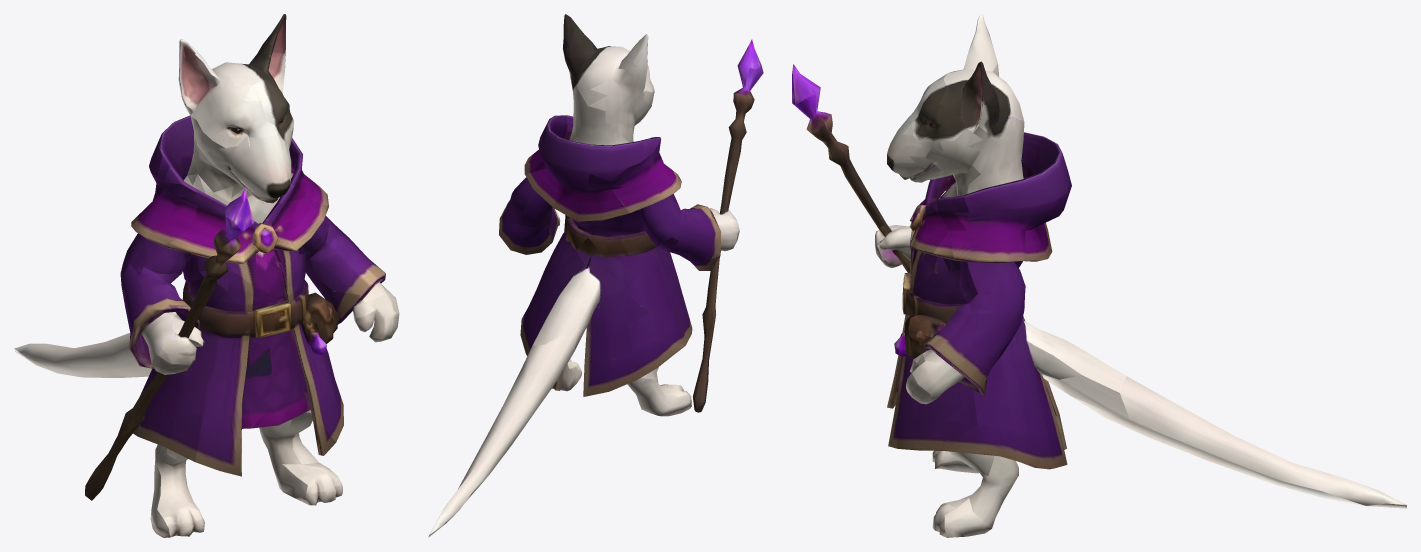
The model's file is analyze.glb.
3 views of the same model, side by side, from view 1: azimuth 30°, elevation 25°; view 2: azimuth 150°, elevation 25°; view 3: azimuth 270°, elevation 25° (orthographic). The views are drawn at different scales.
Visible parts, largest first — view 1: mesh_node; view 2: mesh_node; view 3: mesh_node.
Part boxes in pixels (<box>): mesh_node: <box>14,14,399,537</box>; mesh_node: <box>428,14,763,537</box>; mesh_node: <box>792,14,1406,537</box>.
Size of the model in its own units: 0.499 by 0.8418 by 1.
1 material, 1 textured.
